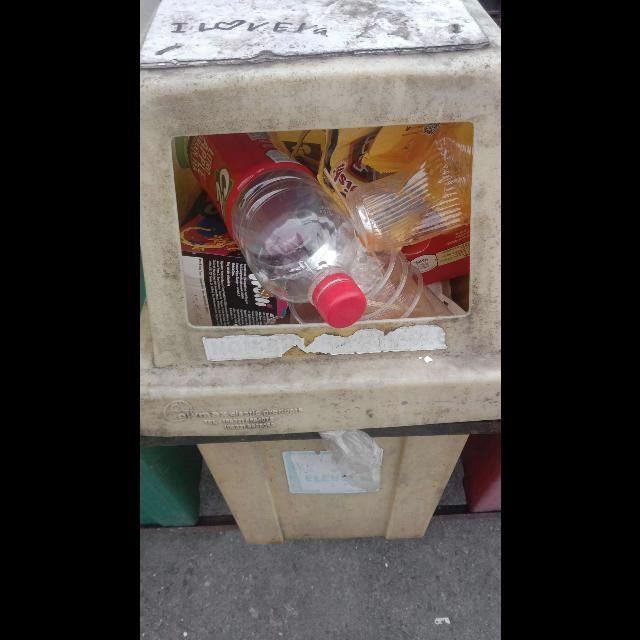cardboard: (179, 202, 287, 328)
food_wrapper: (316, 122, 473, 212)
plastic_bottle: (187, 133, 367, 329)
